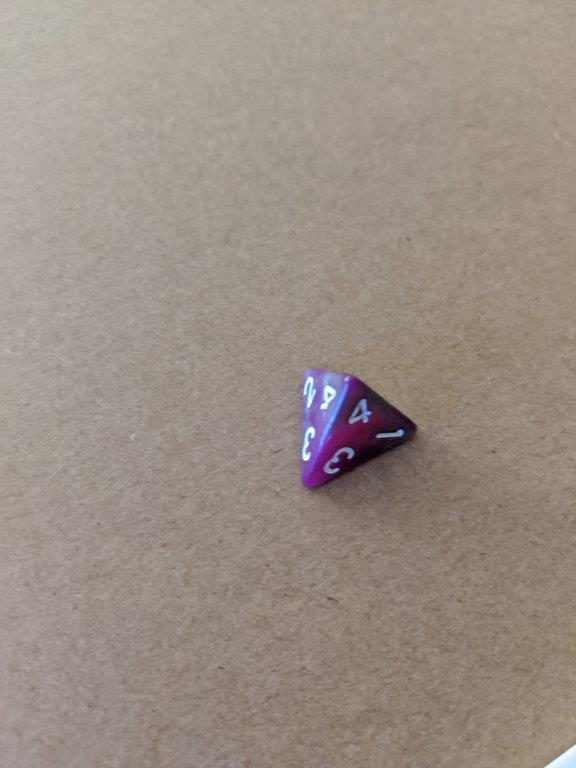d4-4: (293, 363, 420, 490)
